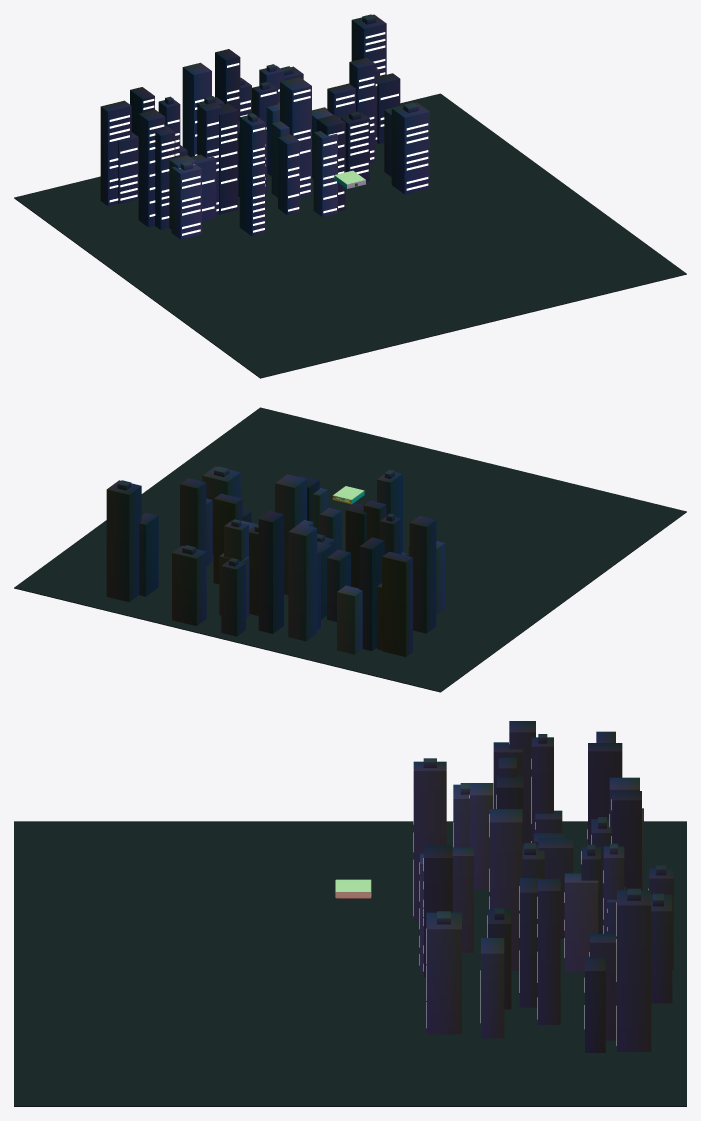
Rendered from home.glb.
3 renders of one model, top to bottom at view 1: azimuth 30°, elevation 25°; view 2: azimuth 150°, elevation 25°; view 3: azimuth 270°, elevation 25°, orthographic. The views are drawn at different scales.
Parts seen in each view (by area): view 1: Arch_Ground, Arch_Skyline; view 2: Arch_Ground, Arch_Skyline; view 3: Arch_Ground, Arch_Skyline.
Part boxes in pixels (x1,y1,x2,y2): Arch_Ground: [14, 93, 686, 378]; Arch_Skyline: [100, 14, 429, 239]; Arch_Ground: [14, 407, 686, 692]; Arch_Skyline: [106, 466, 444, 656]; Arch_Ground: [14, 821, 686, 1106]; Arch_Skyline: [413, 721, 673, 1052].
Size of what is drawn, in the model's own units: 300 by 78.11 by 300.
